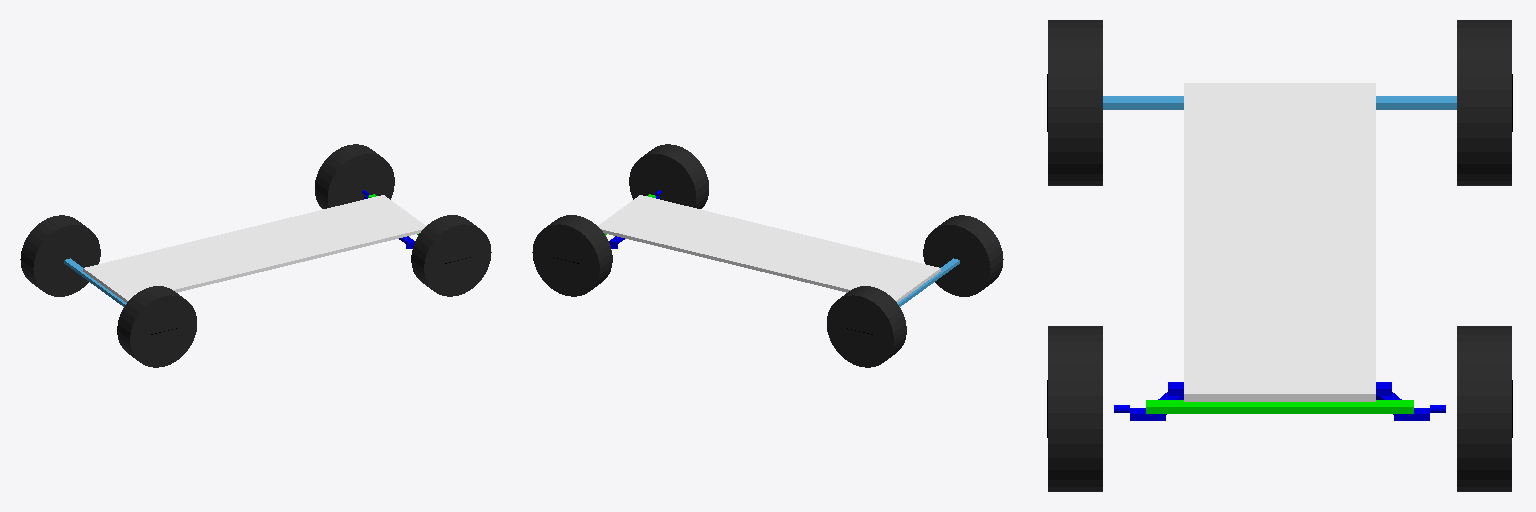
The robot description file, URDF, robot "prius_1":
<?xml version="1.0" ?>
<robot name="prius_1">
  <link name="chassis_floor">
    <inertial>
      <mass value="57.833"/>
      <origin rpy="0 0 0" xyz="0 0 0" />
      <inertia ixx="2.71553" ixy="0" ixz="0" iyy="68.9" iyz="0" izz="71.6063"/>
    </inertial>
    <visual name="v1">
      <origin rpy="0 0 0" xyz="0 0 0"/>
      <geometry>
        <box size="2.8808 0.75 0.030921"/>
      </geometry>
      <material name="white">
        <color rgba="1 1 1 1" />
      </material>
    </visual>
  </link>
  <link name="front_axle">
    <!-- <inertial>
      <mass value="0"/>
      <origin rpy="0 0 0" xyz="0 0 0"/>
      <inertia ixx="0" ixy="0" ixz="0" iyy="0" iyz="0" izz="0"/>
    </inertial> -->
    <visual name="v1">
      <origin rpy="0 0 0" xyz="0 0 0"/>
      <geometry>
        <box size="0.061842 1.05132 0.030921"/>
      </geometry>
      <material name="green">
        <color rgba="0 1 0 1" />
      </material>
    </visual>
  </link>
  <link name="left_tie_rod_arm">
    <!-- <inertial>
      <mass value="0"/>
      <origin rpy="0  0  0" xyz="-0.17246 -0.08623  0"/>
      <inertia ixx="0" ixy="0" ixz="0" iyy="0" iyz="0" izz="0"/>
    </inertial> -->
    <visual name="__v2">
      <origin rpy="0 0 0.46364" xyz="-0.1086 -0.0543 0"/>
      <geometry>
        <box size="0.204637 0.061842 0.030921"/>
      </geometry>
      <material name="blue">
        <color rgba="0 0 1 1" />
      </material>
    </visual>
    <visual name="__v1">
      <origin rpy="0  0  0" xyz="0       0.02228  0"/>
      <geometry>
        <box size="0.061842 0.140955 0.030921"/>
      </geometry>
      <material name="blue">
        <color rgba="0 0 1 1" />
      </material>
    </visual>
  </link>
  <link name="left_hub">
    <!-- <inertial>
      <mass value="0"/>
      <origin rpy="0  0  0" xyz="0  0  0"/>
      <inertia ixx="0" ixy="0" ixz="0" iyy="0" iyz="0" izz="0"/>
    </inertial> -->
    <visual name="__visual">
      <origin rpy="0 0 0" xyz="0 0 0"/>
      <geometry>
        <cylinder length="0.0618421" radius="0.0154605"/>
      </geometry>
      <material name="blue">
        <color rgba="0 0 1 1" />
      </material>
    </visual>
  </link>
  <link name="tie_rod">
    <!-- <inertial>
      <mass value="0"/>
      <origin rpy="0  0  0" xyz="0     -0.4085  0"/>
      <inertia ixx="0" ixy="0" ixz="0" iyy="0" iyz="0" izz="0"/>
    </inertial> -->
    <visual name="v1">
      <origin rpy="0 0 0" xyz="0 -0.4085 0"/>
      <geometry>
        <box size="0.061842 0.878847 0.030921"/>
      </geometry>
      <material name="blue">
        <color rgba="0 0 1 1" />
      </material>
    </visual>
  </link>
  <link name="left_wheel">
    <inertial>
      <mass value="14.28"/>
      <origin rpy="0 0 0" xyz="0 0 0"/>
      <inertia ixx="0.499912" ixy="0" ixz="0" iyy="0.778439" iyz="0" izz="0.499912"/>
    </inertial>
    <collision name="c1">
      <origin rpy="0 0 0" xyz="0 0 0"/>
      <geometry>
        <cylinder length="0.215" radius="0.323342"/>
      </geometry>
    </collision>
    <visual name="wheel">
      <origin rpy="0 0 0" xyz="0 0 0"/>
      <geometry>
        <cylinder length="0.215" radius="0.323342"/>
      </geometry>
      <material name="gray">
        <color rgba="0.2 0.2 0.2 1" />
      </material>
    </visual>
    <visual name="line1">
      <origin rpy="0 1.570796326794896557998982 3.141592653589793115997963" xyz="0 0 -0.1075"/>
      <geometry>
        <box size="0.0025 0.0025 0.25"/>
      </geometry>
      <material name="black">
        <color rgba="0 0 0 1" />
      </material>
    </visual>
    <visual name="line2">
      <origin rpy="3.141592653589793115997963 1.570796326794896557998982 -1.570796326794896557998982" xyz="0 0 -0.1075"/>
      <geometry>
        <box size="0.0025 0.0025 0.25"/>
      </geometry>
      <material name="black">
        <color rgba="0 0 0 1" />
      </material>
    </visual>
  </link>
  <link name="right_tie_rod_arm">
    <!-- <inertial>
      <mass value="0"/>
      <origin rpy="0  0  0" xyz="-0.17246  0.08623  0"/>
      <inertia ixx="0" ixy="0" ixz="0" iyy="0" iyz="0" izz="0"/>
    </inertial> -->
    <visual name="v1">
      <origin rpy="0 0 0" xyz="0 -0.02228 0"/>
      <geometry>
        <box size="0.061842 0.140955 0.030921"/>
      </geometry>
      <material name="blue">
        <color rgba="0 0 1 1" />
      </material>
    </visual>
    <visual name="v2">
      <origin rpy="0 0 -0.46364" xyz="-0.1086 0.0543 0"/>
      <geometry>
        <box size="0.204637 0.061842 0.030921"/>
      </geometry>
      <material name="blue">
        <color rgba="0 0 1 1" />
      </material>
    </visual>
  </link>
  <link name="right_hub">
    <!-- <inertial>
      <mass value="0"/>
      <origin rpy="0  0  0" xyz="0  0  0"/>
      <inertia ixx="0" ixy="0" ixz="0" iyy="0" iyz="0" izz="0"/>
    </inertial> -->
    <visual name="v1">
      <origin rpy="0 0 0" xyz="0 0 0"/>
      <geometry>
        <cylinder length="0.0618421" radius="0.0154605"/>
      </geometry>
      <material name="blue">
        <color rgba="0 0 1 1" />
      </material>
    </visual>
  </link>
  <link name="right_wheel">
    <inertial>
      <mass value="14.28"/>
      <origin rpy="0 0 0" xyz="0 0 0"/>
      <inertia ixx="0.499912" ixy="0" ixz="0" iyy="0.778439" iyz="0" izz="0.499912"/>
    </inertial>
    <collision  name="c1">
      <origin rpy="0 0 0" xyz="0 0 0"/>
      <geometry>
        <cylinder length="0.215" radius="0.323342"/>
      </geometry>
    </collision>
    <visual name="v2">
      <origin rpy="0 0 0" xyz="0 0 0"/>
      <geometry>
        <cylinder length="0.215" radius="0.323342"/>
      </geometry>
       <material name="gray">
        <color rgba="0.2 0.2 0.2 1" />
      </material>
    </visual>
    <visual name="v1">
      <origin rpy="0 1.570796326794896557998982 3.141592653589793115997963" xyz="0 0 0.1075"/>
      <geometry>
        <box size="0.0025 0.0025 0.25"/>
      </geometry>
      <material name="black">
        <color rgba="0 0 0 1" />
      </material>
    </visual>
    <visual name="v3">
      <origin rpy="3.141592653589793115997963 1.570796326794896557998982 -1.570796326794896557998982" xyz="0 0 0.1075"/>
      <geometry>
        <box size="0.0025 0.0025 0.25"/>
      </geometry>
      <material name="black">
        <color rgba="0 0 0 1" />
      </material>
    </visual>
  </link>
  <link name="rear_axle">
    <inertial>
      <mass value="0"/>
      <origin rpy="0 0 0" xyz="0 0 0"/>
      <inertia ixx="0" ixy="0" ixz="0" iyy="0" iyz="0" izz="0"/>
    </inertial>
    <visual name="v1">
      <origin rpy="0 0 0" xyz="0 0 0"/>
      <geometry>
        <box size="0.061842 1.38898 0.030921"/>
      </geometry>
    </visual>
  </link>
  <link name="left_wheel_rear">
    <inertial>
      <mass value="14.28"/>
      <origin rpy="0 0 0" xyz="0 0 0"/>
      <inertia ixx="0.499912" ixy="0" ixz="0" iyy="0.778439" iyz="0" izz="0.499912"/>
    </inertial>
    <collision name="c1">
      <origin rpy="0  0  0" xyz="0  0  0"/>
      <geometry>
        <cylinder length="0.215" radius="0.323342"/>
      </geometry>
    </collision>
    <visual name="v3">
      <origin rpy="0 1.570796326794896557998982 3.141592653589793115997963" xyz="0 0 -0.1075"/>
      <geometry>
        <box size="0.0025 0.0025 0.25"/>
      </geometry>
      <material name="black">
        <color rgba="0 0 0 1" />
      </material>
    </visual>
    <visual name="v2">
      <origin rpy="3.141592653589793115997963 1.570796326794896557998982 -1.570796326794896557998982" xyz="0 0 -0.1075"/>
      <geometry>
        <box size="0.0025 0.0025 0.25"/>
      </geometry>
      <material name="black">
        <color rgba="0 0 0 1" />
      </material>
    </visual>
    <visual name="v1">
      <origin rpy="0 0 0" xyz="0 0 0"/>
      <geometry>
        <cylinder length="0.215" radius="0.323342"/>
      </geometry>
      <material name="gray">
        <color rgba="0.2 0.2 0.2 1" />
      </material>
    </visual>
  </link>
  <link name="right_wheel_rear">
    <inertial>
      <mass value="14.28"/>
      <origin rpy="0 0 0" xyz="0 0 0"/>
      <inertia ixx="0.499912" ixy="0" ixz="0" iyy="0.778439" iyz="0" izz="0.499912"/>
    </inertial>
    <collision name="c1">
      <origin rpy="0 0 0" xyz="0 0 0"/>
      <geometry>
        <cylinder length="0.215" radius="0.323342"/>
      </geometry>
    </collision>
    <visual name="v3">
      <origin rpy="0 1.570796326794896557998982 3.141592653589793115997963" xyz="0 0 0.1075"/>
      <geometry>
        <box size="0.0025 0.0025 0.25"/>
      </geometry>
      <material name="black">
        <color rgba="0 0 0 1" />
      </material>
    </visual>
    <visual name="v1">
      <origin rpy="0 0 0" xyz="0 0 0"/>
      <geometry>
        <cylinder length="0.215" radius="0.323342"/>
      </geometry>
      <material name="gray">
        <color rgba="0.2 0.2 0.2 1" />
      </material>
    </visual>
    <visual name="v2">
      <origin rpy="3.141592653589793115997963 1.570796326794896557998982 -1.570796326794896557998982" xyz="0 0 0.1075"/>
      <geometry>
        <box size="0.0025 0.0025 0.25"/>
      </geometry>
      <material name="black">
        <color rgba="0 0 0 1" />
      </material>
    </visual>
  </link>
  <link name="body">
    <inertial>
      <mass value="5.42794"/>
      <origin rpy="0 0 0" xyz="0 0 0"/>
      <inertia ixx="0.00216238" ixy="0" ixz="0" iyy="0.500375" iyz="0" izz="0.501672"/>
    </inertial>
    <visual name="v1">
      <origin rpy="0 0 0" xyz="-2.27 -0.91139 -0.21858"/>
      <geometry>
        <mesh filename="package://prius.dae" scale="1.0 1.0 1.0"/>
      </geometry>
    </visual>
  </link>

  <joint name="chassis_floor_axle" type="fixed">
    <parent link="chassis_floor"/>
    <child link="front_axle"/>
    <origin rpy="0 0 0" xyz="1.40948 0 -0.054984"/>
    <axis xyz="0 0 0"/>
    <limit effort="0" lower="0" upper="0" velocity="0"/>
  </joint>
  <joint name="steering" type="revolute">
    <parent link="front_axle"/>
    <child link="left_tie_rod_arm"/>
    <origin rpy="0 0 0" xyz="0 0.49473 -0.03092"/>
    <axis xyz="0 0 1"/>
    <limit effort="0.0" lower="-0.401426" upper="0.5" velocity="0.0"/>
  </joint>
  <joint name="left_hub" type="fixed">
    <parent link="left_tie_rod_arm"/>
    <child link="left_hub"/>
    <origin rpy="1.570796326794896557998982 0 0" xyz="0 0.12368 0.02406"/>
    <axis xyz="0  0  0"/>
    <limit effort="0" lower="0" upper="0" velocity="0"/>
  </joint>
  <joint name="left_pin" type="revolute">
    <parent link="left_tie_rod_arm"/>
    <child link="tie_rod"/>
    <origin rpy="0 0 0" xyz="-0.17246 -0.08623  0.03092"/>
    <axis xyz="0 0 1"/>
    <limit effort="0" lower="-1.5" upper="1.5" velocity="0"/>
  </joint>
  <joint name="left_wheel_joint" type="revolute">
    <parent link="left_hub"/>
    <child link="left_wheel"/>
    <origin rpy="0 0 0" xyz="0 0 -0.183582999999999940676787"/>
    <axis xyz="0 0 -1"/>
    <limit effort="10000" velocity="10000"/>
  </joint>
  <joint name="axle_tie_rod_arm" type="revolute">
    <parent link="front_axle"/>
    <child link="right_tie_rod_arm"/>
    <origin rpy="0 0 0" xyz="0 -0.49473 -0.03092"/>
    <axis xyz="0 0 1"/>
    <limit effort="0.0" lower="-0.401426" upper="0.5" velocity="0.0"/>
  </joint>
  <joint name="right_hub" type="fixed">
    <parent link="right_tie_rod_arm"/>
    <child link="right_hub"/>
    <origin rpy="1.570796326794896557998982 0 0" xyz="0 -0.12368 0.02406"/>
    <axis xyz="0  0  0"/>
    <limit effort="0" lower="0" upper="0" velocity="0"/>
  </joint>
  <joint name="right_wheel_joint" type="revolute">
    <parent link="right_hub"/>
    <child link="right_wheel"/>
    <origin rpy="0 0 0" xyz="0 0 0.18357"/>
    <axis xyz="0 0 -1"/>
    <limit effort="10000" velocity="10000"/>
  </joint>
  <joint name="chassis_rear_axle" type="fixed">
    <parent link="chassis_floor"/>
    <child link="rear_axle"/>
    <origin rpy="0 0 0" xyz="-1.40948 0 -0.054984"/>
    <axis xyz="0 0 0"/>
    <limit effort="0" lower="0" upper="0" velocity="0"/>
  </joint>
  <joint name="rear_left_wheel_joint" type="revolute">
    <parent link="rear_axle"/>
    <child link="left_wheel_rear"/>
    <origin rpy="1.570796326794896557998982  0 0" xyz="0 0.80199  0"/>
    <axis xyz="0  0 -1"/>
    <limit effort="10000" velocity="10000"/>
  </joint>
  <joint name="rear_right_wheel_joint" type="revolute">
    <parent link="rear_axle"/>
    <child link="right_wheel_rear"/>
    <origin rpy="1.570796326794896557998982 0 0" xyz="0 -0.80199  0"/>
    <axis xyz="0  0 -1"/>
    <limit effort="10000" velocity="10000"/>
  </joint>
  <joint name="body" type="fixed">
    <parent link="chassis_floor"/>
    <child link="body"/>
    <origin rpy="0  0  0" xyz="0 0 0.006857999999999975226927518"/>
    <axis xyz="0  0  0"/>
    <limit effort="0" lower="0" upper="0" velocity="0"/>
  </joint>

  <loop_joint name="right_pin" type="continuous">
    <axis xyz="0 0 1"/>
    <link1 link="right_tie_rod_arm" rpy="0 0 0" xyz="-0.17246 0.08622399999999996733635044  0.03092"/>
    <link2 link="tie_rod" rpy="0 0 0" xyz="0 -0.817006 0"/>
  </loop_joint>

  <transmission name="steering_drive" type="SimpleTransmission">
    <joint name="steering"/>
    <actuator name="steering"/>
  </transmission>
  <transmission name="front_left_drive" type="SimpleTransmission">
    <joint name="left_wheel_joint"/>
    <actuator name="left_wheel_joint"/>
  </transmission>
  <transmission name="front_right_drive" type="SimpleTransmission">
    <joint name="right_wheel_joint"/>
    <actuator name="right_wheel_joint"/>
  </transmission>
</robot>

--- Render facts (derived) ---
3 views of the same robot in one strip: view 1: azimuth 30°, elevation 25°; view 2: azimuth 150°, elevation 25°; view 3: azimuth 270°, elevation 25° (orthographic).
Model prius_1 with 13 links and 12 joints (7 revolute, 5 fixed), rooted at chassis_floor, posed every joint at zero.
Visible links, largest first — view 1: chassis_floor, right_wheel_rear, right_wheel, left_wheel_rear, left_wheel; view 2: chassis_floor, left_wheel_rear, left_wheel, right_wheel_rear, right_wheel; view 3: chassis_floor, left_wheel, right_wheel, left_wheel_rear, right_wheel_rear, front_axle, rear_axle.
Link boxes in pixels (x1,y1,x2,y2): chassis_floor: (83, 195, 425, 302); right_wheel_rear: (117, 286, 196, 367); right_wheel: (411, 215, 491, 296); left_wheel_rear: (20, 215, 100, 296); left_wheel: (315, 144, 394, 208); chassis_floor: (598, 195, 940, 302); left_wheel_rear: (827, 286, 906, 367); left_wheel: (532, 215, 612, 296); right_wheel_rear: (923, 215, 1003, 296); right_wheel: (629, 144, 708, 208); chassis_floor: (1184, 83, 1375, 401); left_wheel: (1457, 326, 1512, 491); right_wheel: (1047, 326, 1102, 491); left_wheel_rear: (1457, 20, 1512, 185); right_wheel_rear: (1047, 20, 1102, 185); front_axle: (1146, 400, 1413, 413); rear_axle: (1103, 96, 1456, 109).
Bounding box of the posed robot: 3.47 × 1.82 × 0.6535 m (x, y, z).
Geometry: only primitive shapes (box / cylinder / sphere) drawn; not drawn: 1 mesh visual (reference in a form the renderer does not follow).
